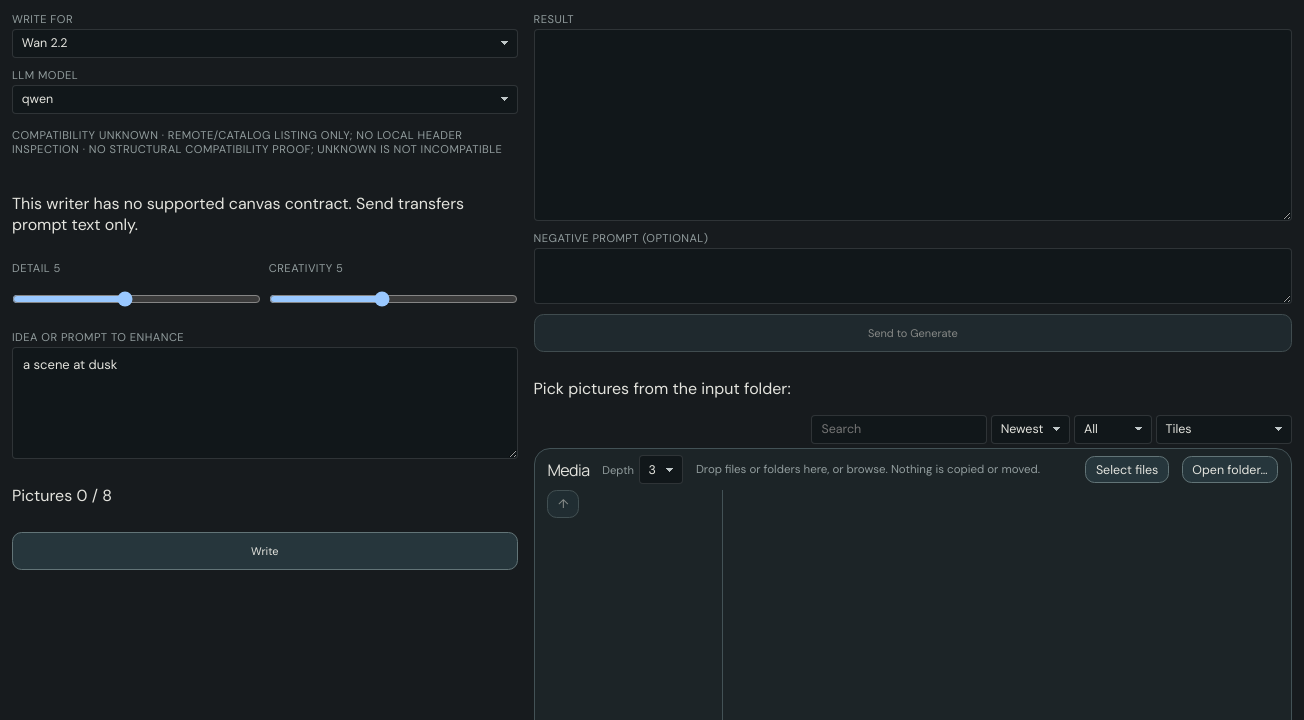
Scenario: legacy node-pack writers expose their unsupported canvas contract and keep their existing text-only fields
Later steps or results of the test are not shown.
Check: the dropdown labelled "LLM model" shows "qwen", box [12,85,518,114]
Check: the text "This writer has no supported canvas contract" is shown, box [12,193,464,235]
Step 1. Click the button "Write" → x=265, y=551, box [12,532,518,570]
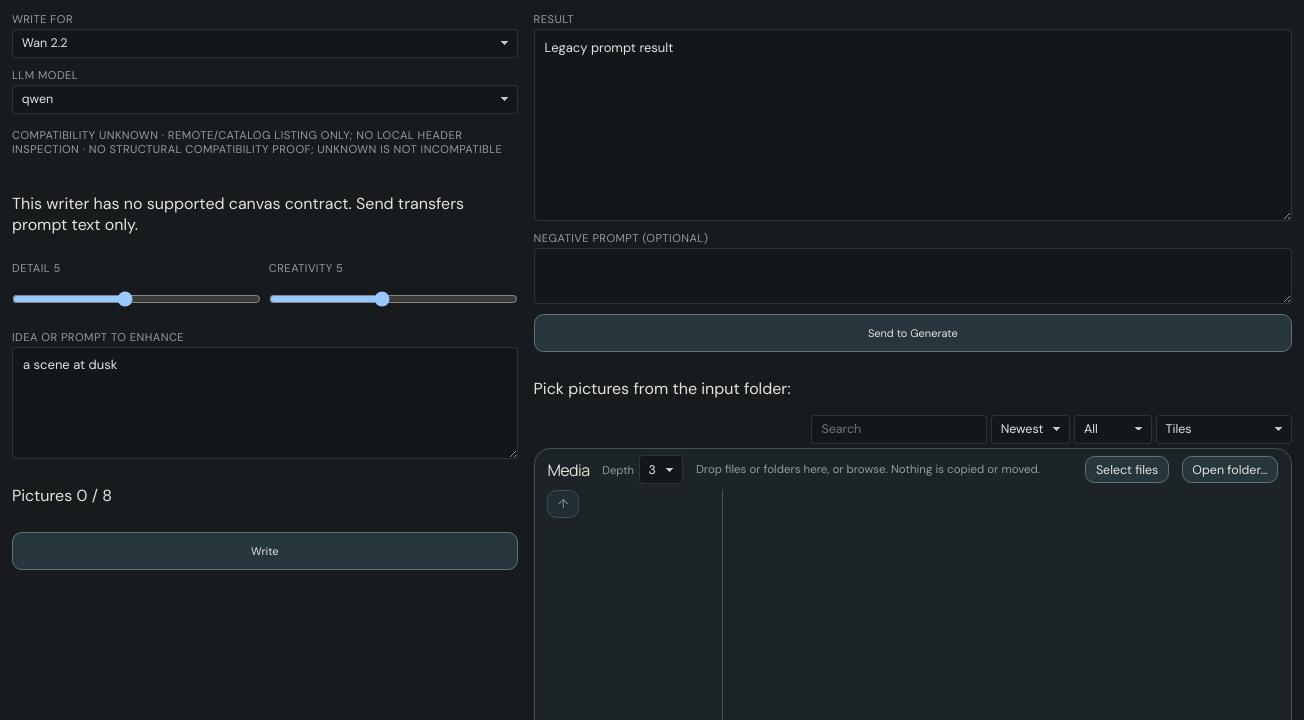
Check: the text box labelled "Result" holds "Legacy prompt result", box [534,29,1292,221]
